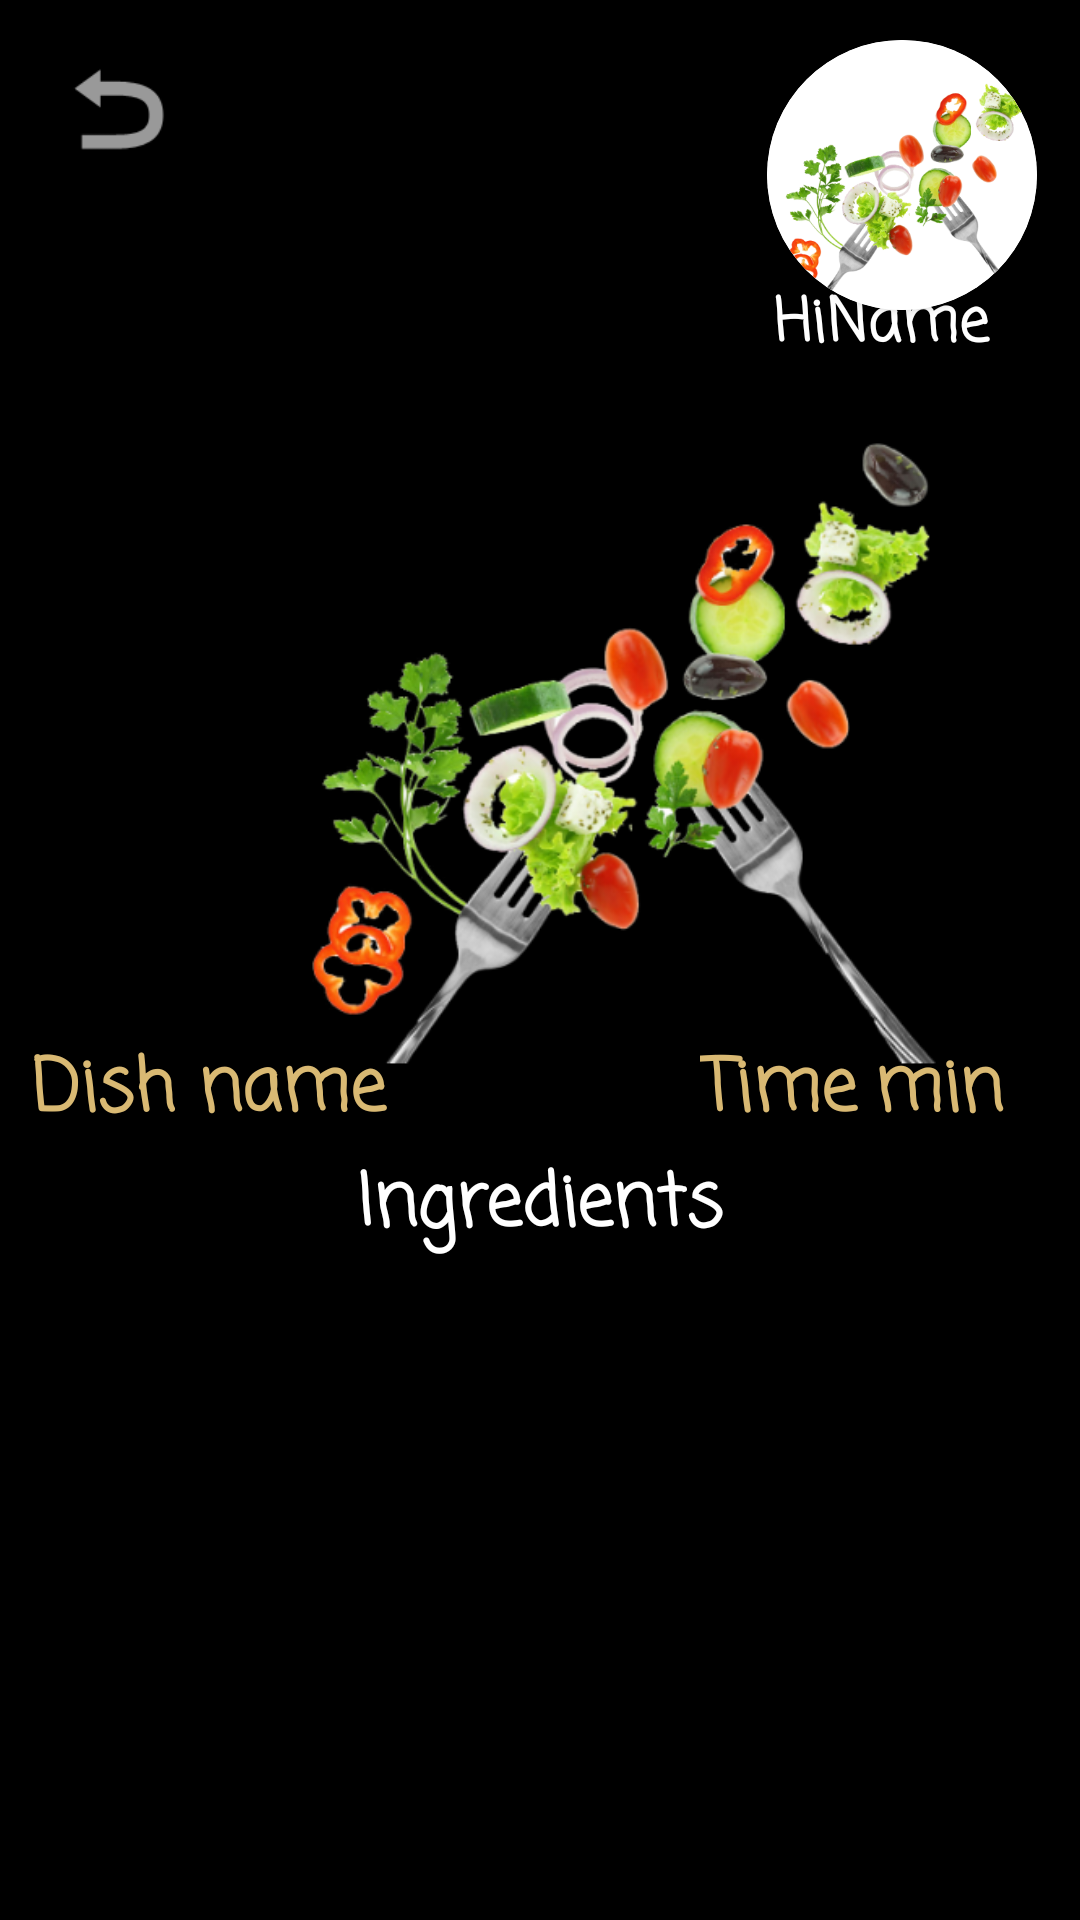

Icons on this 1080×1920 Android screen, each with the point to tap as (x=x, y=y):
revert: (x=119, y=109)
